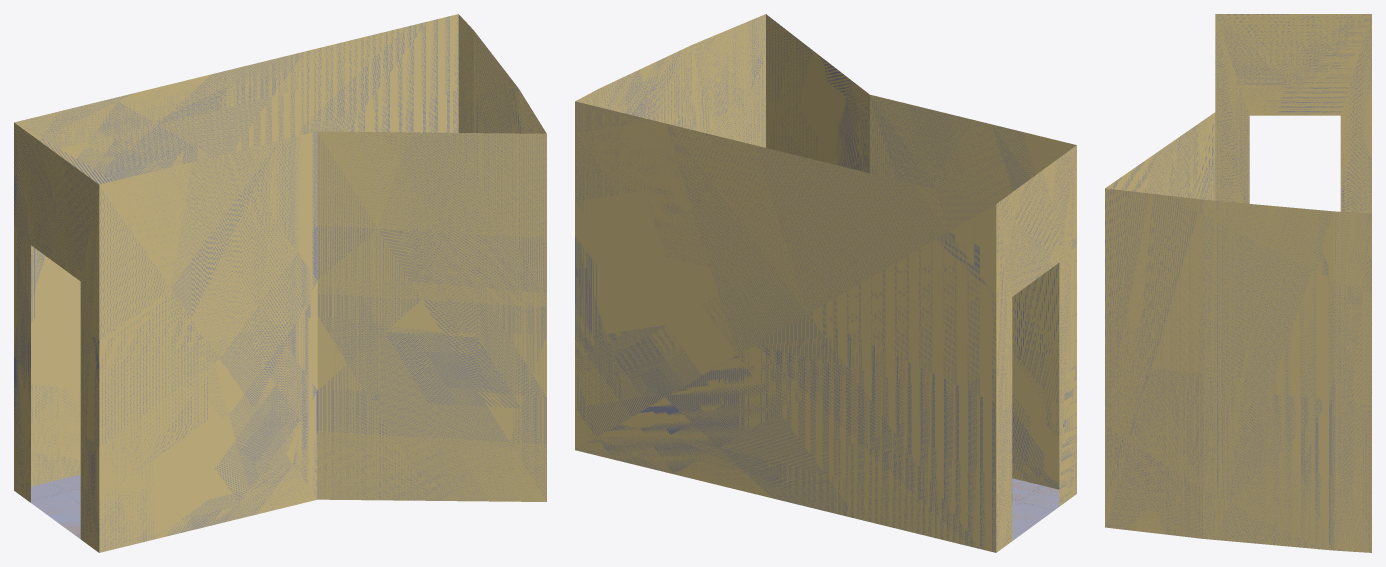
The model's file is LAB004.obj.
The picture shows the model from 3 angles, left to right: view 1: azimuth 30°, elevation 25°; view 2: azimuth 150°, elevation 25°; view 3: azimuth 270°, elevation 25°; orthographic projection. The views are drawn at different scales.
Visible parts, largest first — view 1: Mesh1 LAB004 Model; view 2: Mesh1 LAB004 Model; view 3: Mesh1 LAB004 Model.
Part boxes in pixels (x1,y1,x2,y2): Mesh1 LAB004 Model: [14, 14, 546, 552]; Mesh1 LAB004 Model: [575, 14, 1076, 552]; Mesh1 LAB004 Model: [1105, 14, 1371, 552].
Bounding box in the file's own units: 3.79 × 3 × 2.14.
Materials: 3 (1 with a texture image).
